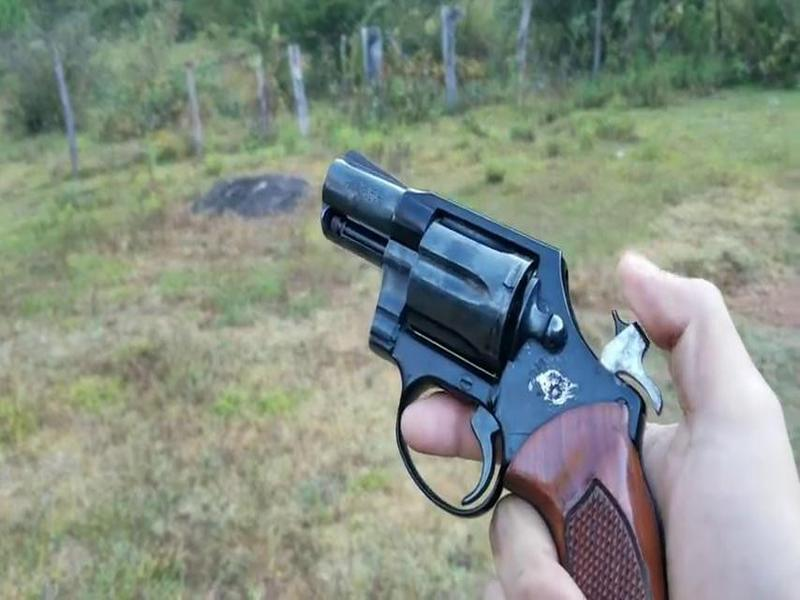Revolver: (299, 133, 643, 600)
